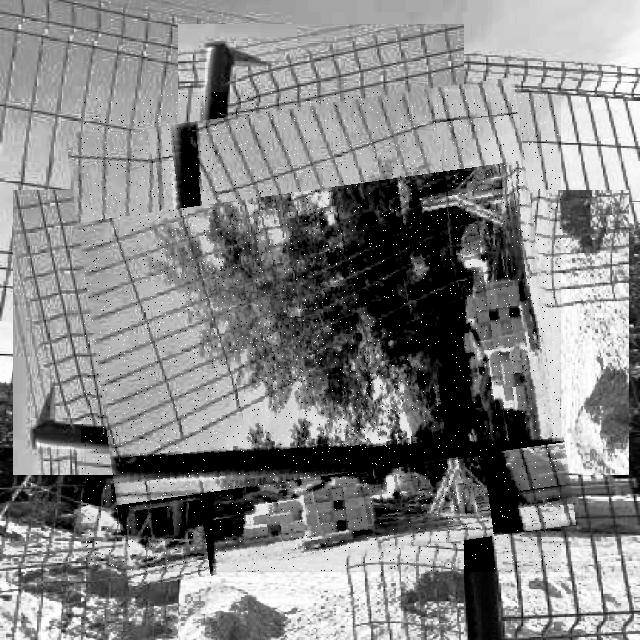anomaly-fence: (81, 92, 561, 572)
